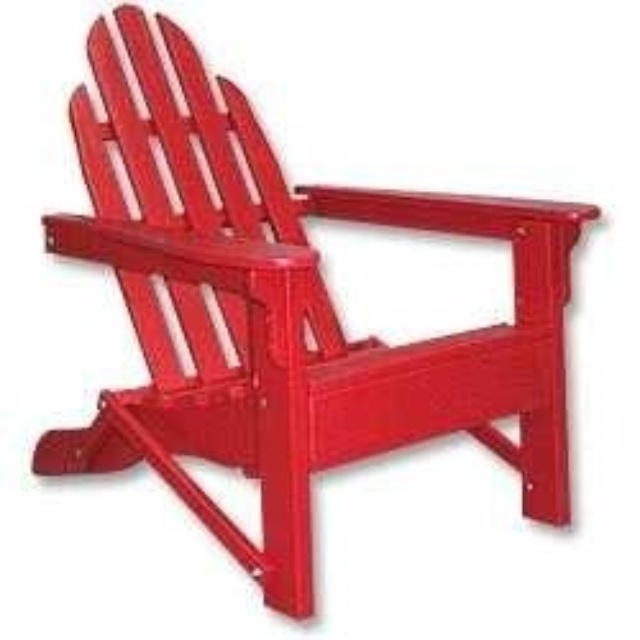obstacle: (33, 5, 596, 614)
